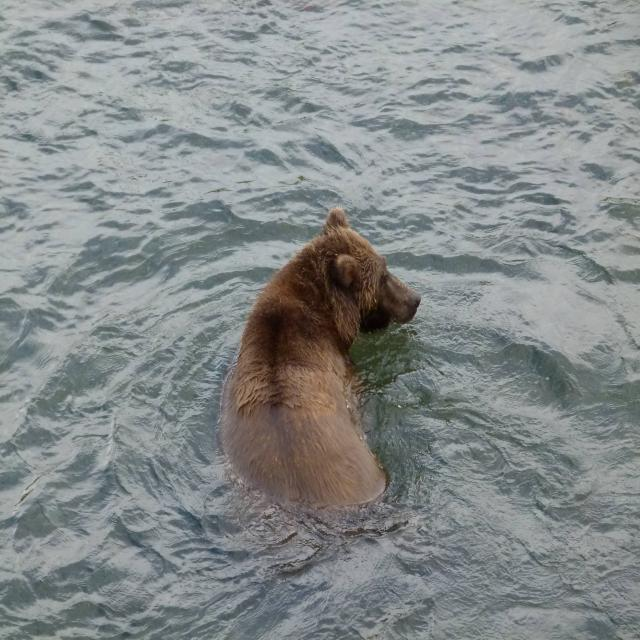bear face: (233, 206, 421, 498)
